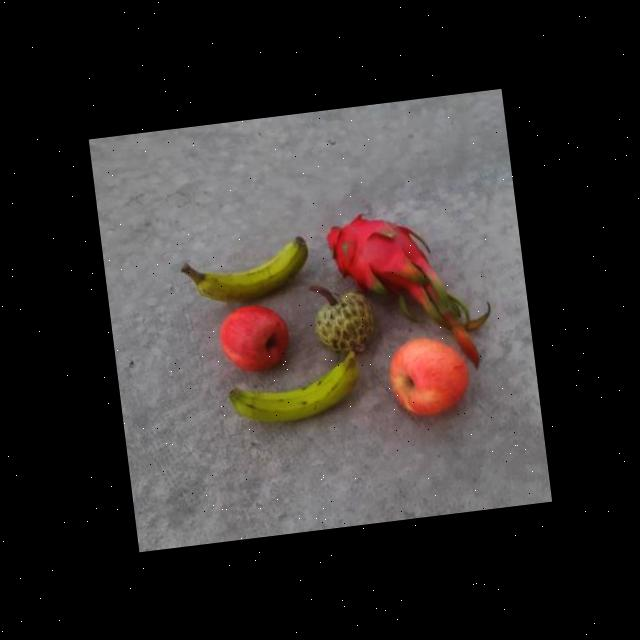Sakya fruit: (302, 286, 381, 358)
apple: (381, 332, 477, 422), (218, 296, 294, 376)
banana: (220, 345, 374, 435), (166, 233, 319, 309)
pitaya: (320, 206, 432, 296)
